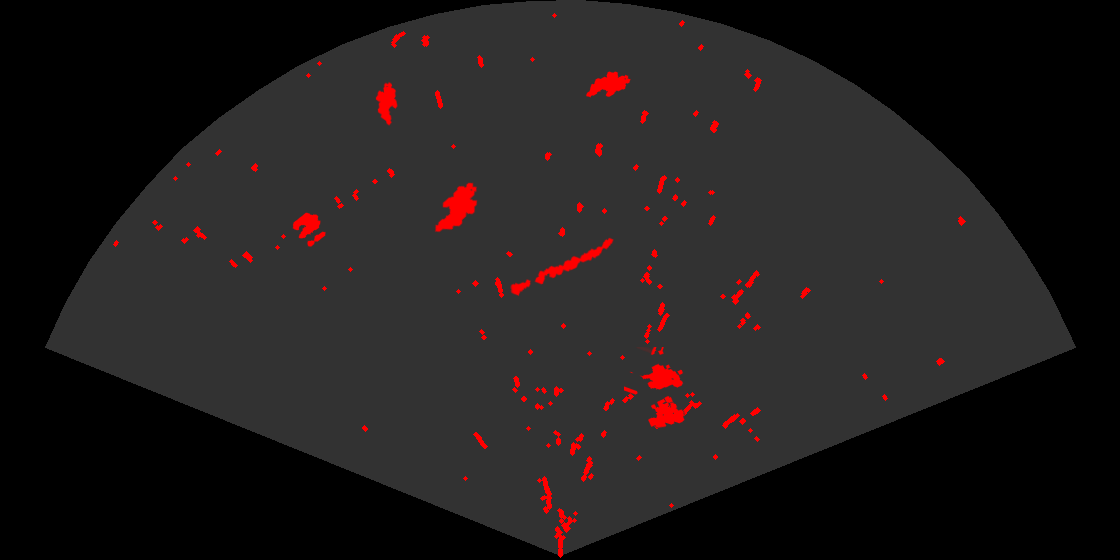AUV: (433, 181, 479, 234), (584, 70, 632, 99), (374, 80, 399, 127)
ball: (291, 211, 327, 248)
cage: (624, 347, 686, 429)
chain: (508, 236, 615, 298)
